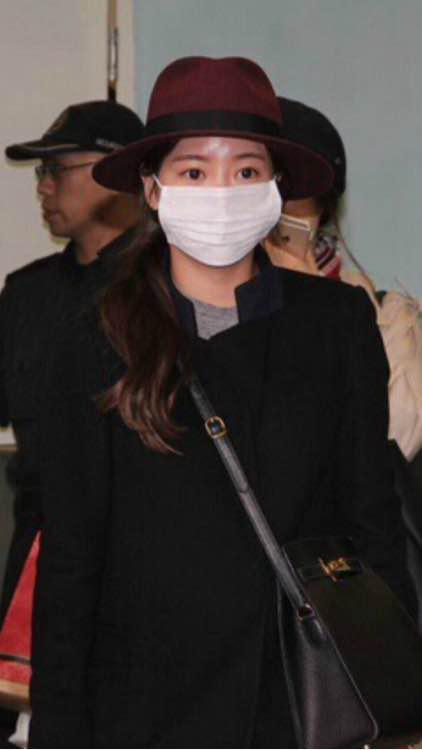NONE: (33, 158, 116, 239)
OK: (158, 151, 278, 271)
